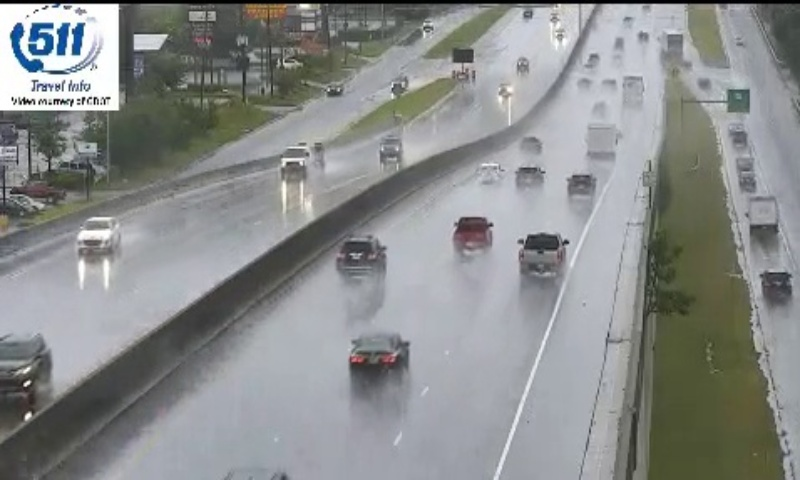car: (351, 335, 408, 375), (336, 236, 386, 278), (518, 232, 567, 274), (453, 215, 493, 251), (567, 173, 594, 194)
